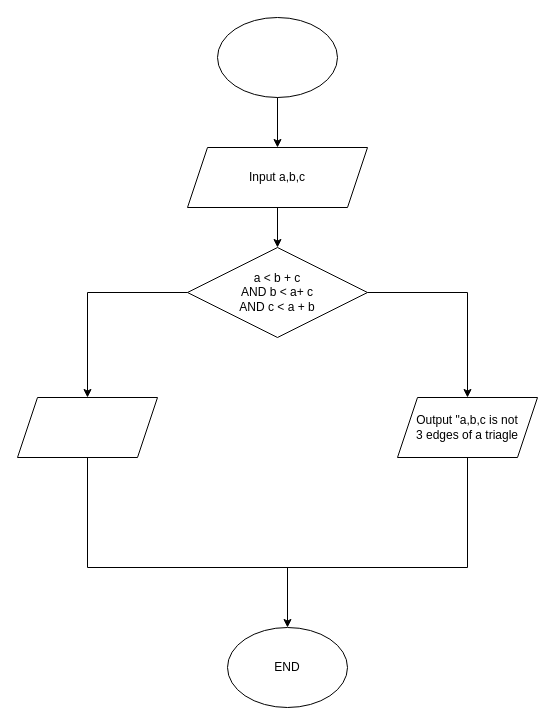
Image size: 555x725. Some labels were removed from this diagram. The centre of each missing label's shape, as x and y in pixels:
Output "a,b,c is 3 edges of a triagle: (x=87, y=427)
Start: (x=277, y=57)
